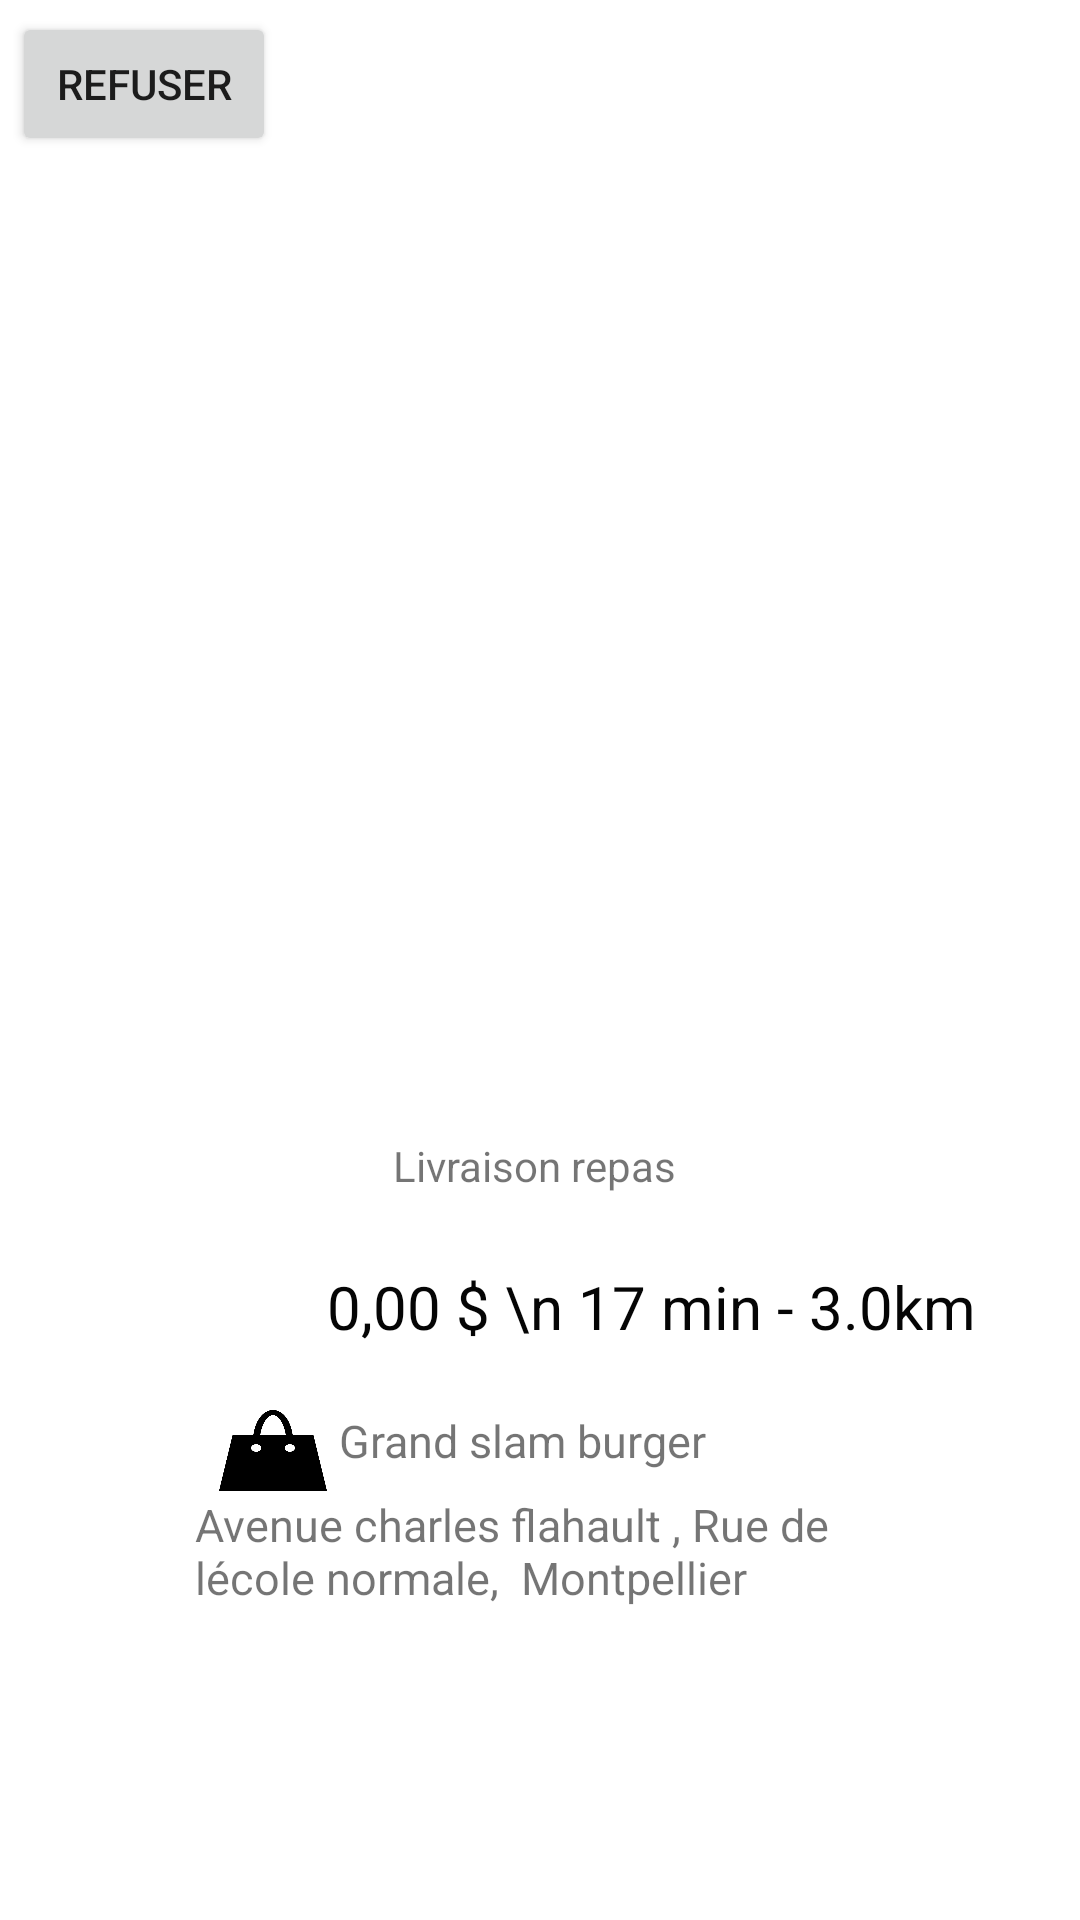

Screen size 1080x1920. Icon name, then its center in pixels as (x=x, y=y):
bag: (x=273, y=1450)
